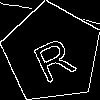R: (27, 28, 78, 85)
